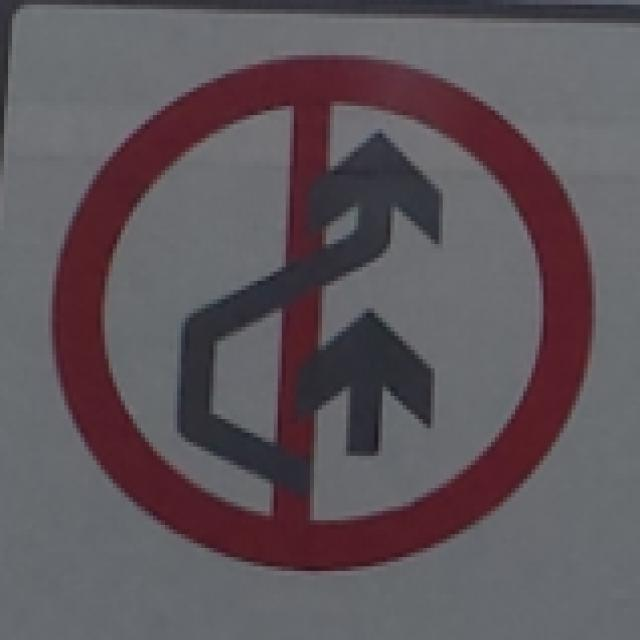Not that Direction: (70, 32, 583, 568)
